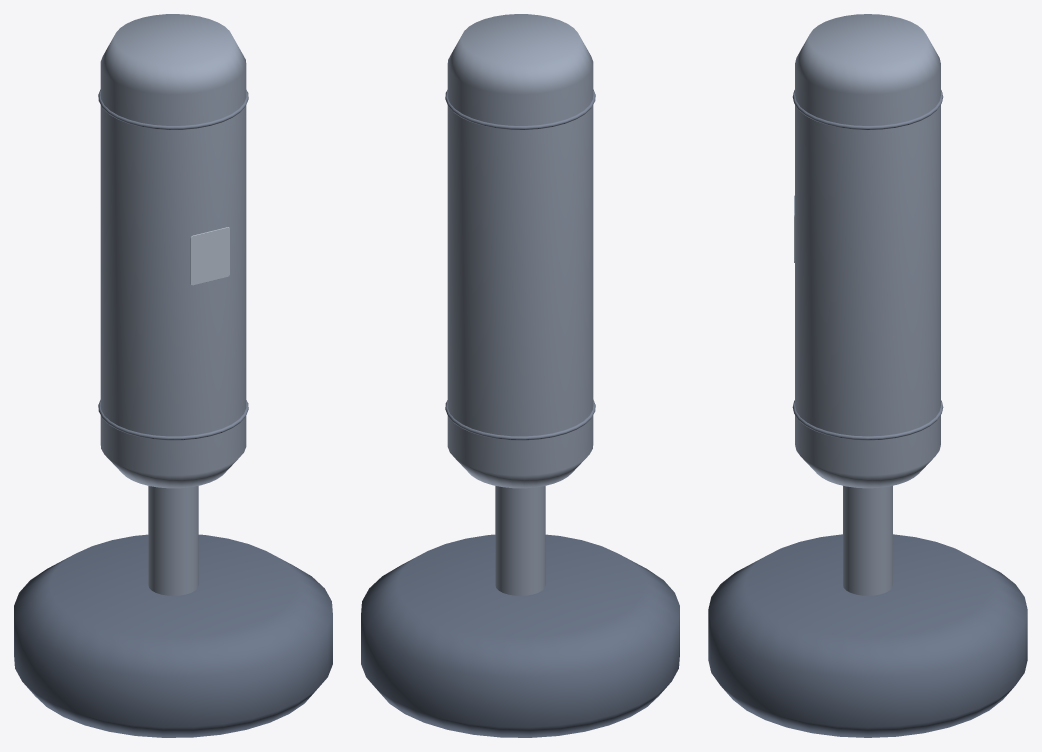
The model's file is punching-bag.glb.
The picture shows the model from 3 angles, left to right: view 1: azimuth 30°, elevation 25°; view 2: azimuth 150°, elevation 25°; view 3: azimuth 270°, elevation 25°; orthographic projection.
Parts seen in each view (by area): view 1: body, dark, light, accent; view 2: body, dark, accent; view 3: body, dark, accent.
Boxes of the visible parts, x1,y1,x2,y2 form: body: (100,14,246,595); dark: (14,534,332,737); light: (190,227,229,285); accent: (98,89,248,440); body: (447,14,593,595); dark: (361,534,679,737); accent: (445,89,595,440); body: (795,14,940,595); dark: (708,534,1027,737); accent: (792,90,943,440).
Bounding box in the file's own units: 0.7 × 1.54 × 0.7.
